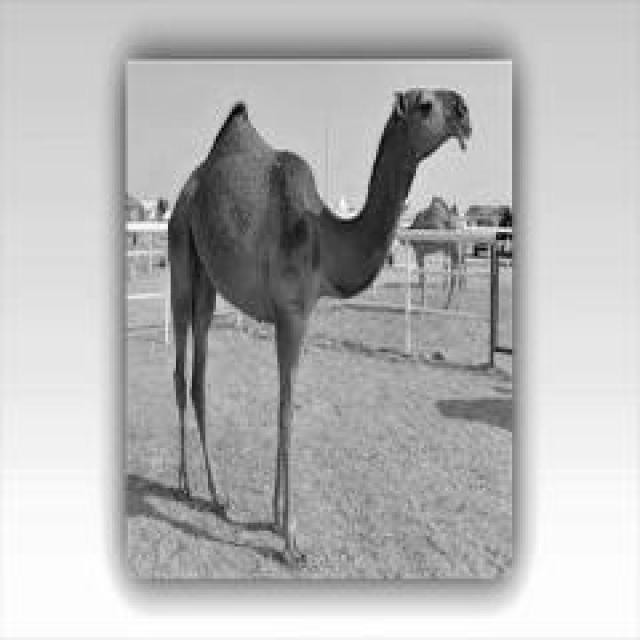Camel: (165, 82, 472, 562)
